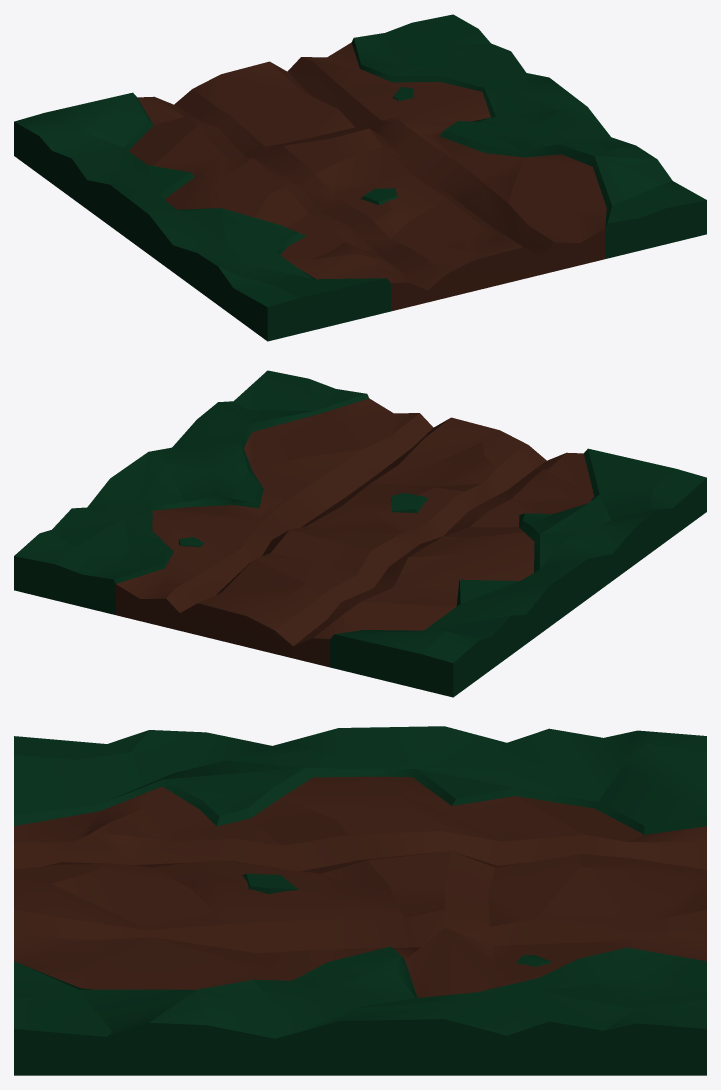
Rendered from Ground_Road_V.fbx.
The picture shows the model from 3 angles, top to bottom: view 1: azimuth 30°, elevation 25°; view 2: azimuth 150°, elevation 25°; view 3: azimuth 270°, elevation 25°; orthographic projection. The views are drawn at different scales.
Visible parts, largest first — view 1: Ground_Road_V; view 2: Ground_Road_V; view 3: Ground_Road_V.
Boxes of the visible parts, x1=… form: Ground_Road_V: x1=14, y1=14, x2=706, y2=341; Ground_Road_V: x1=14, y1=370, x2=706, y2=697; Ground_Road_V: x1=14, y1=726, x2=706, y2=1075.
Bounding box in the file's own units: 147 × 13.97 × 147.
